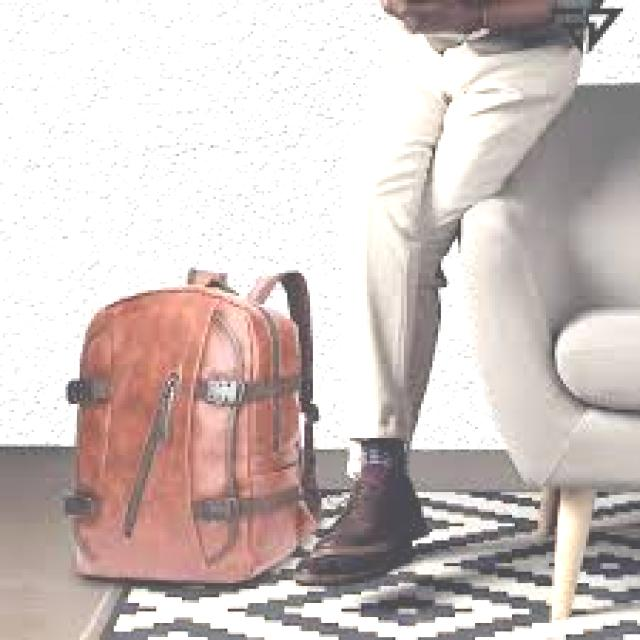backpack: (64, 266, 323, 584)
